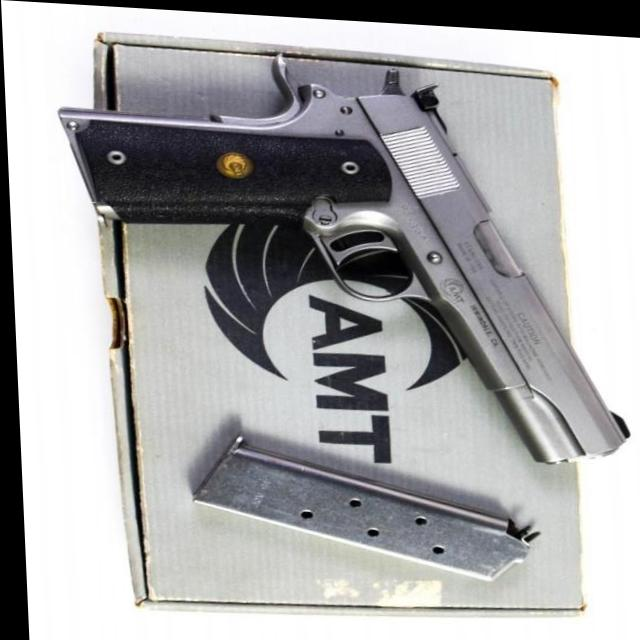handgun: (52, 39, 630, 464)
